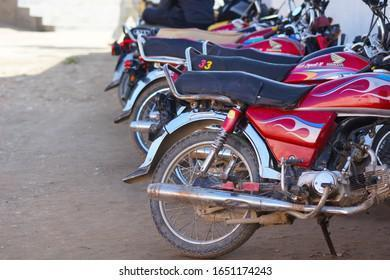motorcycle: (136, 62, 390, 260)
